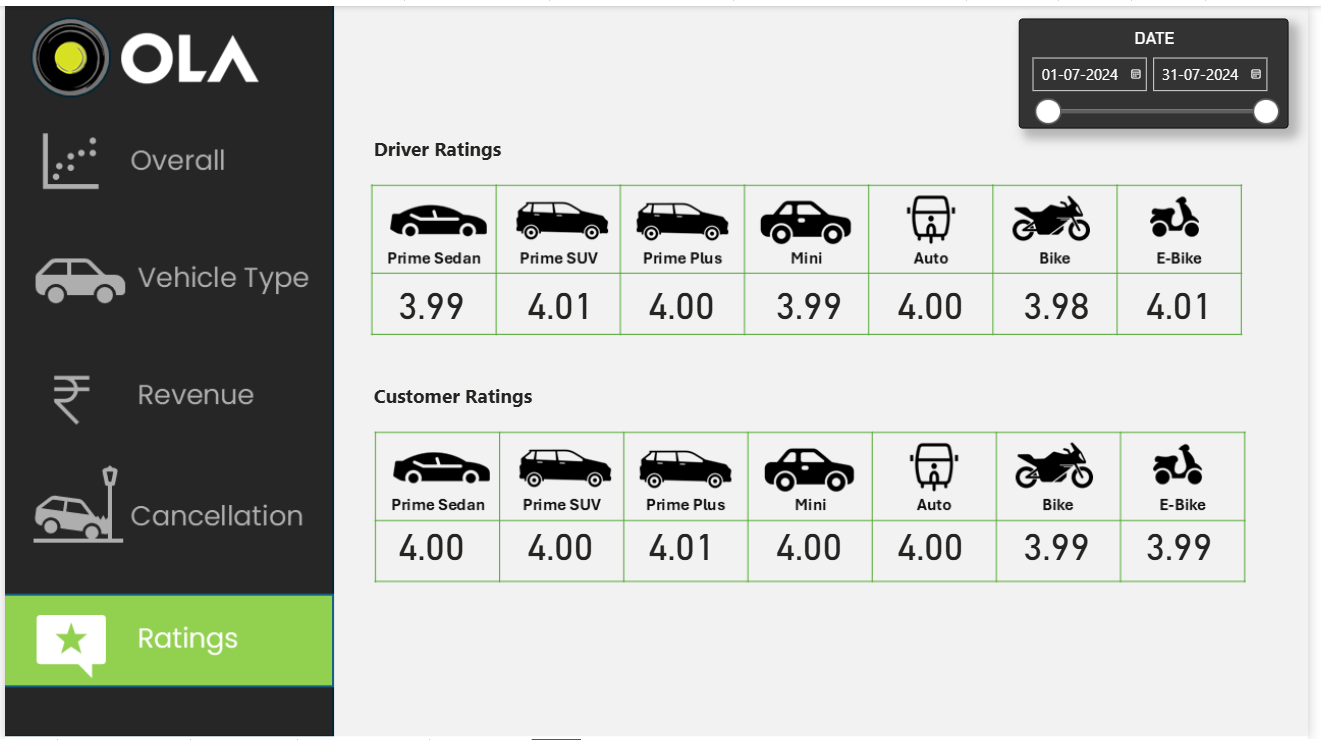

What the dashboard file says about the page in this screenshot:
{"tool":"powerbi","page":{"name":"Ratings","canvas":[1280,720],"ordinal":4},"visuals":[{"type":"actionButton","box":[0,224.5,322.7,90.8],"z":0},{"type":"actionButton","box":[0,339.9,322.7,90.8],"z":1000},{"type":"actionButton","box":[0,457.7,322.7,90.8],"z":2000},{"type":"actionButton","box":[0,109.2,322.7,90.8],"z":3000},{"type":"card","fields":{"Values":["Avg(July.Driver_Ratings)"]},"box":[369.1,266.2,98.8,49.4],"z":4000},{"type":"card","fields":{"Values":["Avg(July.Driver_Ratings)"]},"box":[495.4,266.2,98.8,49.4],"z":5000},{"type":"card","fields":{"Values":["Avg(July.Driver_Ratings)"]},"box":[614.8,266.2,98.8,49.4],"z":6000},{"type":"card","fields":{"Values":["Avg(July.Driver_Ratings)"]},"box":[739.6,266.2,98.8,49.4],"z":7000},{"type":"card","fields":{"Values":["Avg(July.Driver_Ratings)"]},"box":[859,266.2,98.8,49.4],"z":8000},{"type":"card","fields":{"Values":["Avg(July.Driver_Ratings)"]},"box":[982.5,266.2,98.8,49.4],"z":9000},{"type":"card","fields":{"Values":["Avg(July.Driver_Ratings)"]},"box":[1103.3,266.2,98.8,49.4],"z":10000},{"type":"textbox","box":[356.8,122.1,149.6,42.5],"z":11000},{"type":"textbox","box":[356.8,365,186.6,39.8],"z":12000},{"type":"card","fields":{"Values":["Avg(July.Customer_Rating)"]},"box":[369.1,503.6,98.8,49.4],"z":13000},{"type":"card","fields":{"Values":["Avg(July.Customer_Rating)"]},"box":[495.4,503.6,98.8,49.4],"z":14000},{"type":"card","fields":{"Values":["Avg(July.Customer_Rating)"]},"box":[614.8,503.6,98.8,49.4],"z":15000},{"type":"card","fields":{"Values":["Avg(July.Customer_Rating)"]},"box":[739.6,503.6,98.8,49.4],"z":16000},{"type":"card","fields":{"Values":["Avg(July.Customer_Rating)"]},"box":[859,503.6,98.8,49.4],"z":17000},{"type":"card","fields":{"Values":["Avg(July.Customer_Rating)"]},"box":[982.5,503.6,98.8,49.4],"z":18000},{"type":"card","fields":{"Values":["Avg(July.Customer_Rating)"]},"box":[1103.3,503.6,98.8,49.4],"z":19000},{"type":"slicer","title":"DATE","fields":{"Values":["July.Date"]},"box":[995.1,12.3,265,108],"z":20000}]}

Visuals, with their boxes in screenshot pixels (x1, y1, x2, y2), scaled from the page's 1280x720 canvas onto the 1321x740 screenshot:
actionButton: locate(0, 231, 333, 324)
actionButton: locate(0, 349, 333, 443)
actionButton: locate(0, 470, 333, 564)
actionButton: locate(0, 112, 333, 206)
card - Avg(July.Driver_Ratings): locate(381, 274, 483, 324)
card - Avg(July.Driver_Ratings): locate(511, 274, 613, 324)
card - Avg(July.Driver_Ratings): locate(634, 274, 736, 324)
card - Avg(July.Driver_Ratings): locate(763, 274, 865, 324)
card - Avg(July.Driver_Ratings): locate(887, 274, 988, 324)
card - Avg(July.Driver_Ratings): locate(1014, 274, 1116, 324)
card - Avg(July.Driver_Ratings): locate(1139, 274, 1241, 324)
textbox: locate(368, 125, 523, 169)
textbox: locate(368, 375, 561, 416)
card - Avg(July.Customer_Rating): locate(381, 518, 483, 568)
card - Avg(July.Customer_Rating): locate(511, 518, 613, 568)
card - Avg(July.Customer_Rating): locate(634, 518, 736, 568)
card - Avg(July.Customer_Rating): locate(763, 518, 865, 568)
card - Avg(July.Customer_Rating): locate(887, 518, 988, 568)
card - Avg(July.Customer_Rating): locate(1014, 518, 1116, 568)
card - Avg(July.Customer_Rating): locate(1139, 518, 1241, 568)
"DATE" slicer: locate(1027, 13, 1300, 124)
